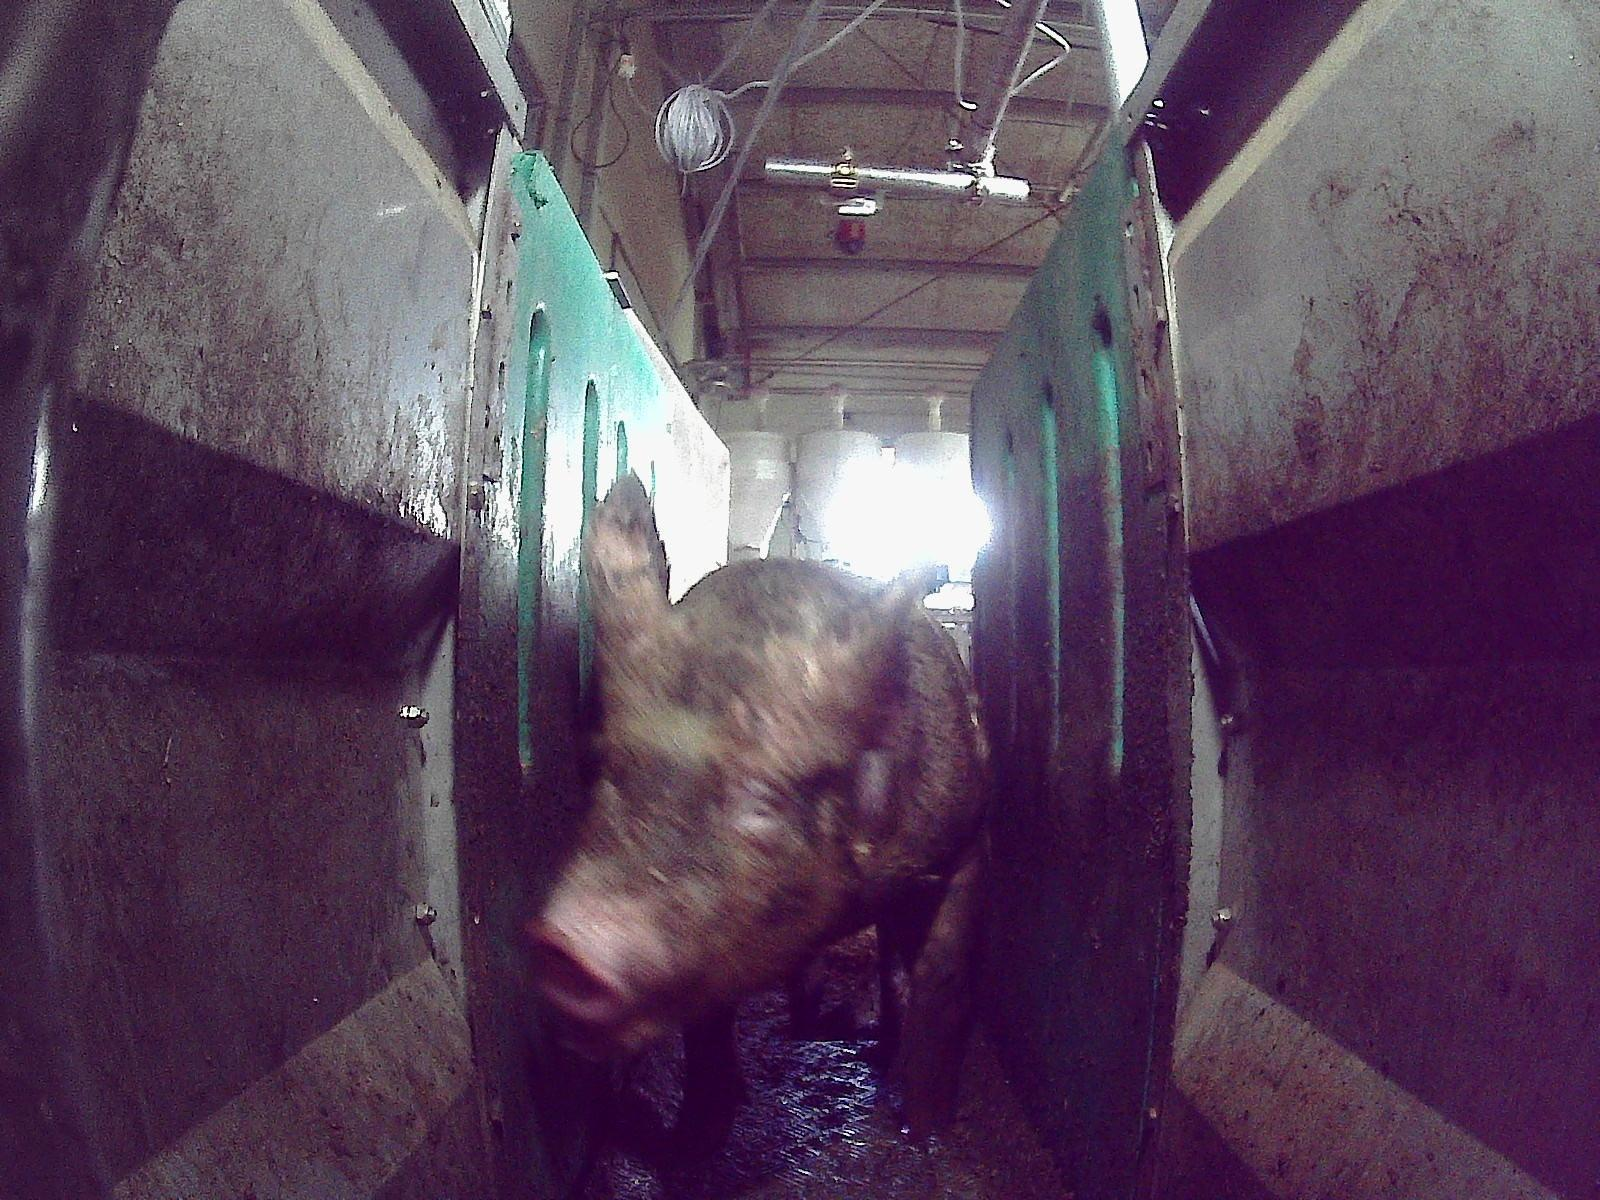Face: (523, 622, 865, 1059)
